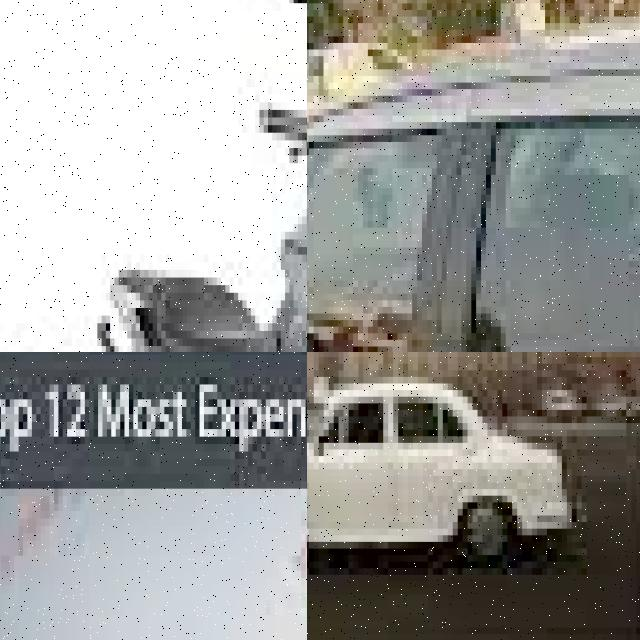bike: (16, 102, 307, 352), (0, 555, 307, 640)
car: (307, 23, 640, 352), (307, 353, 587, 591)
